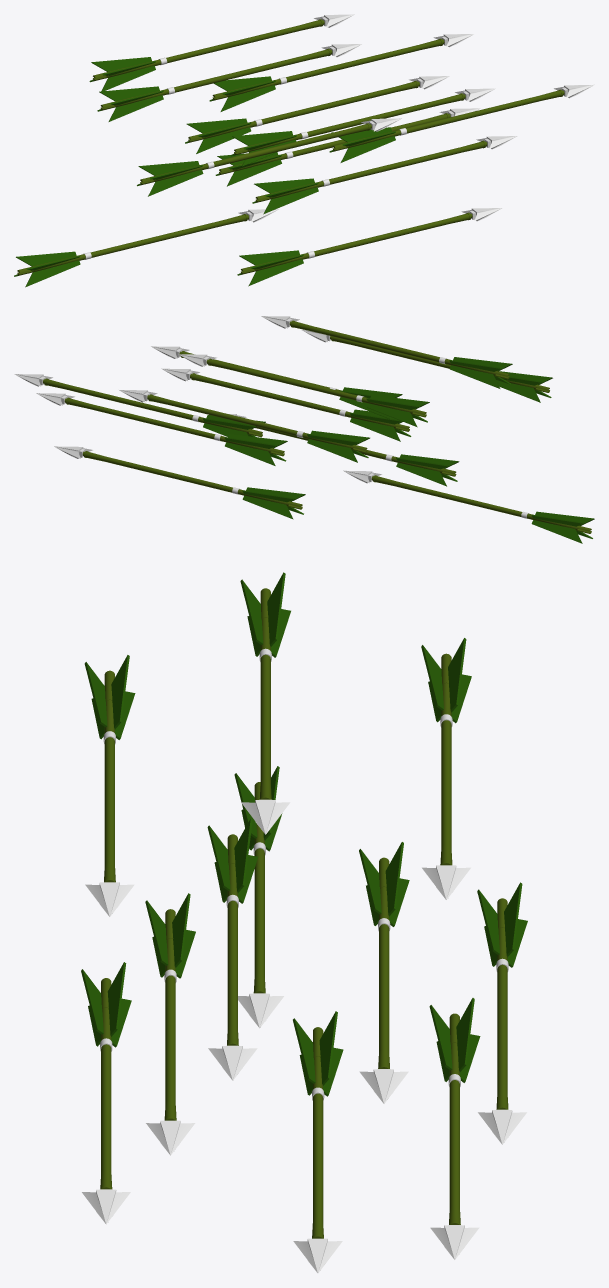
Rendered from Arrows.fbx.
3 renders of one model, top to bottom at view 1: azimuth 30°, elevation 25°; view 2: azimuth 150°, elevation 25°; view 3: azimuth 270°, elevation 25°, orthographic. The views are drawn at different scales.
Parts seen in each view (by area): view 1: pCylinder1_blinn1_0.004, pCylinder1_blinn1_0.003, pCylinder1_blinn1_0.007, pCylinder1_blinn1_0.009, pCylinder1_blinn1_0.010, pCylinder1, pCylinder1_blinn1_0.001, pCylinder1_blinn1_0.006, pCylinder1_blinn1_0.008, pCylinder1_blinn1_0.002, pCylinder1_blinn1_0.005, polySurface3_blinn3_0.001 (+18 smaller); view 2: pCylinder1_blinn1_0.009, pCylinder1_blinn1_0.005, pCylinder1_blinn1_0.004, pCylinder1_blinn1_0.001, pCylinder1_blinn1_0.006, pCylinder1, pCylinder1_blinn1_0.003, pCylinder1_blinn1_0.008, pCylinder1_blinn1_0.007, pCylinder1_blinn1_0.010, polySurface5_blinn3_0.005, polySurface5_blinn3_0.009 (+9 smaller); view 3: pCylinder1_blinn1_0.007, pCylinder1_blinn1_0.009, pCylinder1_blinn1_0.003, pCylinder1_blinn1_0.006, pCylinder1_blinn1_0.010, pCylinder1_blinn1_0.005, pCylinder1_blinn1_0.002, pCylinder1_blinn1_0.008, pCylinder1, pCylinder1_blinn1_0.001, pCylinder1_blinn1_0.004, pCube2_blinn2_0.006 (+9 smaller).
Boxes of the visible parts, left/top/right/bottom form: pCylinder1_blinn1_0.004: left=17, top=214, right=248, bottom=275; pCylinder1_blinn1_0.003: left=255, top=140, right=487, bottom=202; pCylinder1_blinn1_0.007: left=140, top=123, right=371, bottom=184; pCylinder1_blinn1_0.009: left=93, top=19, right=324, bottom=80; pCylinder1_blinn1_0.010: left=241, top=212, right=472, bottom=274; pCylinder1: left=332, top=89, right=564, bottom=151; pCylinder1_blinn1_0.001: left=188, top=80, right=419, bottom=142; pCylinder1_blinn1_0.006: left=100, top=48, right=332, bottom=110; pCylinder1_blinn1_0.008: left=212, top=38, right=444, bottom=100; pCylinder1_blinn1_0.002: left=234, top=93, right=465, bottom=154; pCylinder1_blinn1_0.005: left=219, top=113, right=450, bottom=174; polySurface3_blinn3_0.001: left=186, top=118, right=247, bottom=133; pCylinder1_blinn1_0.009: left=206, top=358, right=426, bottom=417; pCylinder1_blinn1_0.005: left=82, top=451, right=302, bottom=509; pCylinder1_blinn1_0.004: left=371, top=475, right=591, bottom=533; pCylinder1_blinn1_0.001: left=147, top=394, right=367, bottom=452; pCylinder1_blinn1_0.006: left=289, top=320, right=509, bottom=379; pCylinder1: left=43, top=378, right=262, bottom=437; pCylinder1_blinn1_0.003: left=190, top=373, right=409, bottom=431; pCylinder1_blinn1_0.008: left=64, top=397, right=284, bottom=456; pCylinder1_blinn1_0.007: left=330, top=336, right=549, bottom=392; pCylinder1_blinn1_0.010: left=255, top=426, right=456, bottom=476; polySurface5_blinn3_0.005: left=242, top=495, right=293, bottom=519; polySurface5_blinn3_0.009: left=367, top=403, right=417, bottom=427; pCylinder1_blinn1_0.007: left=104, top=670, right=115, bottom=882; pCylinder1_blinn1_0.009: left=440, top=653, right=452, bottom=865; pCylinder1_blinn1_0.003: left=164, top=909, right=176, bottom=1120; pCylinder1_blinn1_0.006: left=259, top=588, right=271, bottom=799; pCylinder1_blinn1_0.010: left=100, top=978, right=112, bottom=1189; pCylinder1_blinn1_0.005: left=449, top=1013, right=460, bottom=1224; pCylinder1_blinn1_0.002: left=227, top=834, right=238, bottom=1045; pCylinder1_blinn1_0.008: left=496, top=898, right=508, bottom=1109; pCylinder1: left=312, top=1027, right=323, bottom=1238; pCylinder1_blinn1_0.001: left=378, top=857, right=389, bottom=1068; pCylinder1_blinn1_0.004: left=253, top=782, right=265, bottom=993; pCube2_blinn2_0.006: left=241, top=799, right=290, bottom=834.
Bounding box in the file's own units: 786 × 230 × 271.
